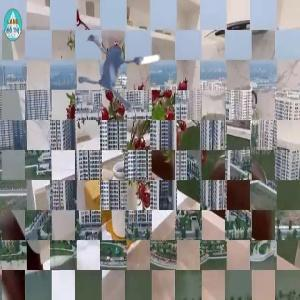drone: (65, 12, 183, 130)
